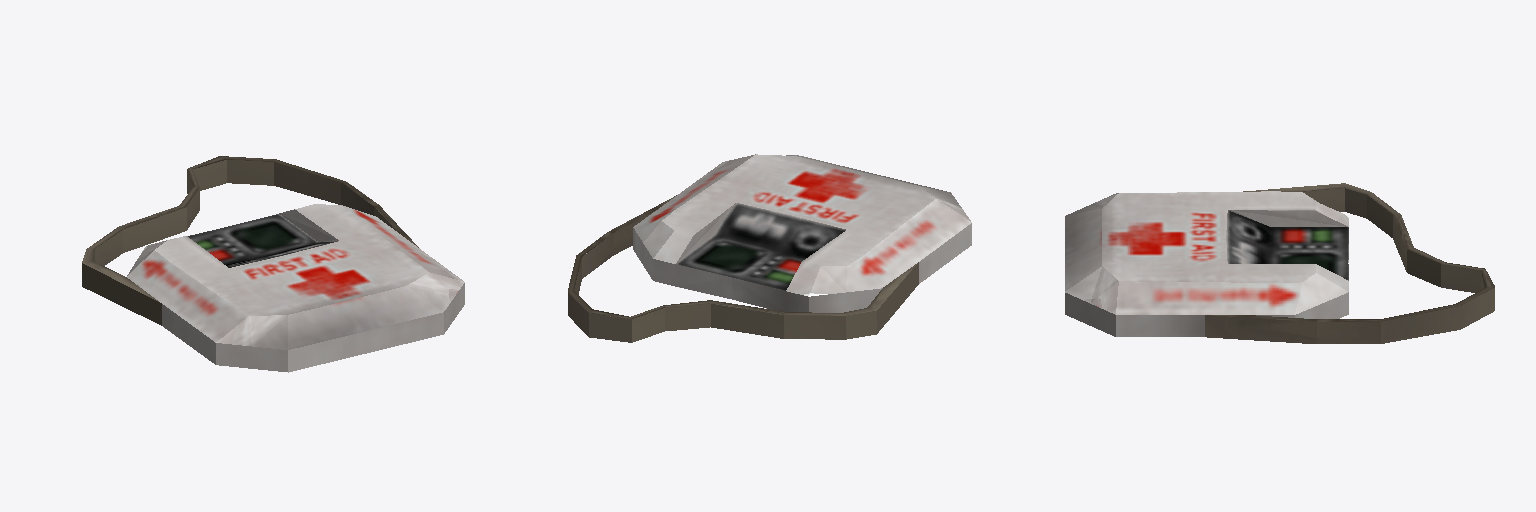
3 renders of one model, left to right at view 1: azimuth 30°, elevation 25°; view 2: azimuth 150°, elevation 25°; view 3: azimuth 270°, elevation 25°, orthographic.
Visible parts, largest first — view 1: Medkit; view 2: Medkit; view 3: Medkit.
Part boxes in pixels (left/top/right/bottom): Medkit: left=82, top=156, right=464, bottom=372; Medkit: left=568, top=154, right=971, bottom=342; Medkit: left=1065, top=183, right=1494, bottom=343.
Size of the model in its own units: 8.46 by 1.14 by 11.14.
1 materials, 1 textured.